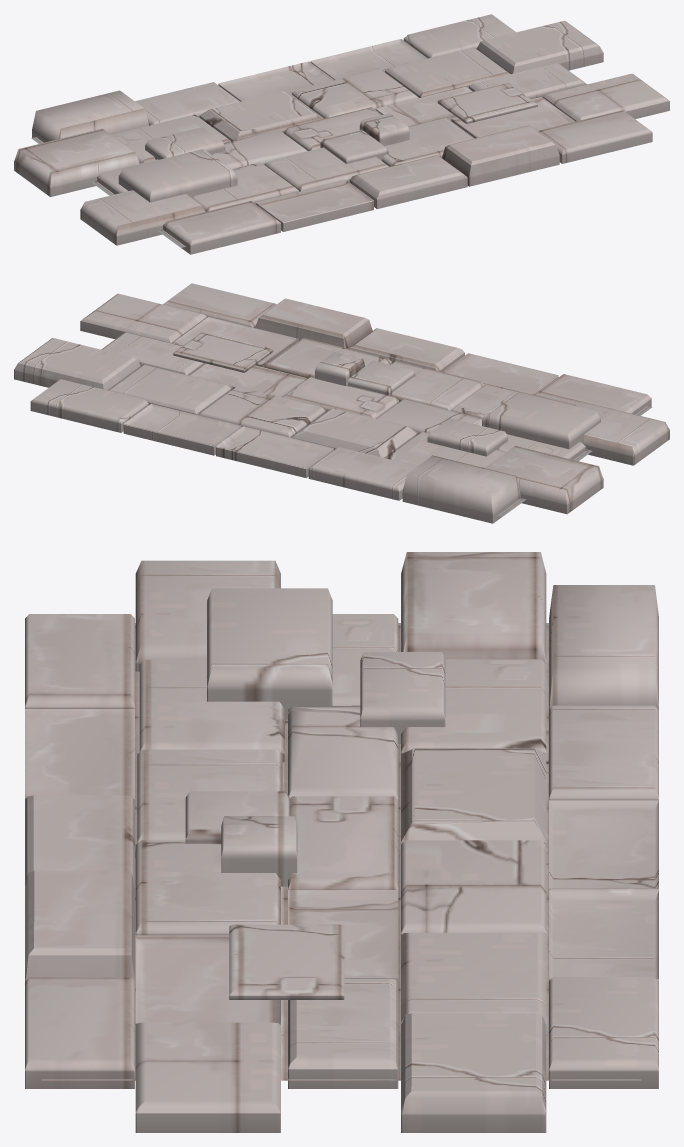
File: Title_Wall.fbx
3 views of the same model, one above another, from view 1: azimuth 30°, elevation 25°; view 2: azimuth 150°, elevation 25°; view 3: azimuth 270°, elevation 25° (orthographic). The views are drawn at different scales.
Visible parts, largest first — view 1: pCube36; view 2: pCube36; view 3: pCube36.
Part boxes in pixels (x1,y1,x2,y2): pCube36: [14, 14, 669, 254]; pCube36: [14, 283, 669, 523]; pCube36: [25, 552, 658, 1132].
Size of the model in its own units: 59.03 by 2.93 by 29.3.
1 material, 1 textured.
